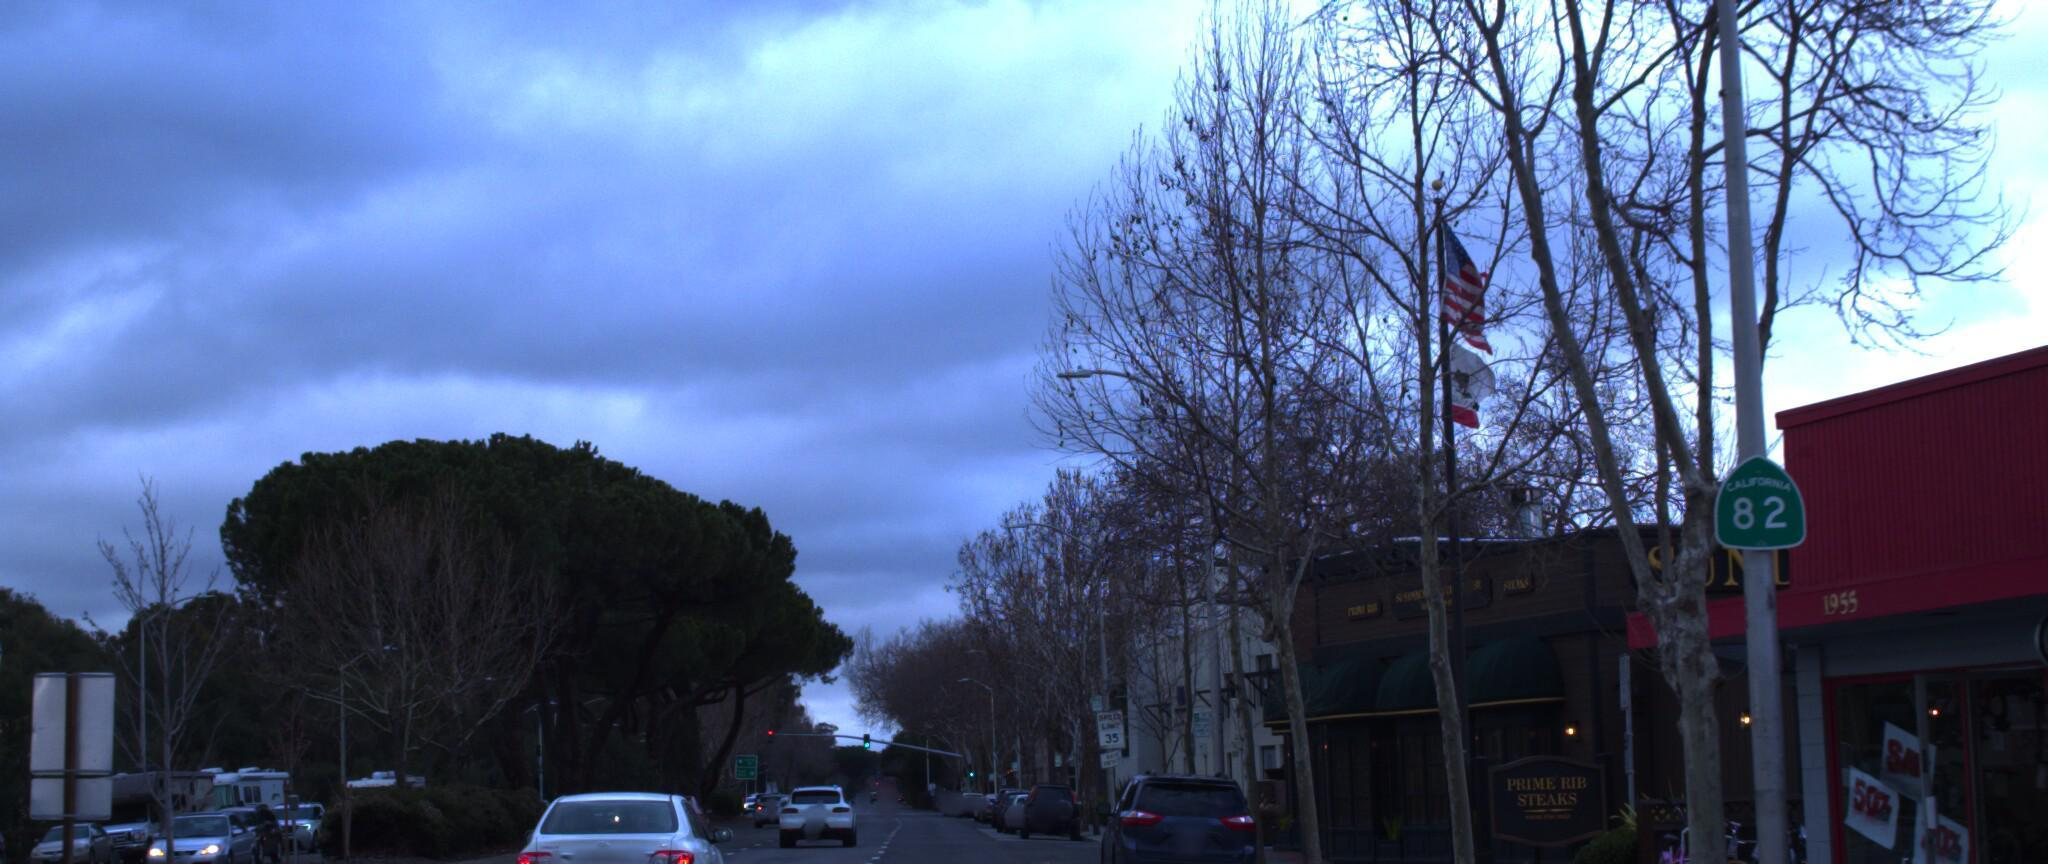bicycle: (1610, 791, 1738, 864), (1668, 809, 1797, 864)
car: (500, 777, 735, 864), (1101, 757, 1256, 864), (121, 808, 255, 864), (768, 780, 852, 841)
